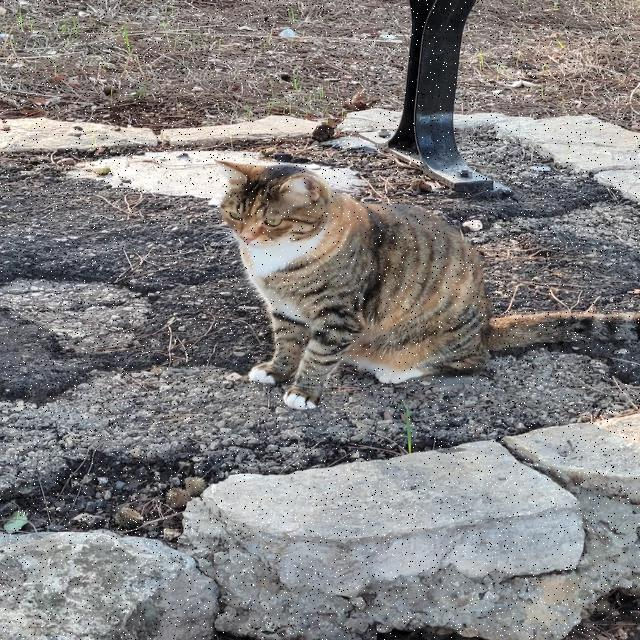cat: (218, 161, 638, 409)
